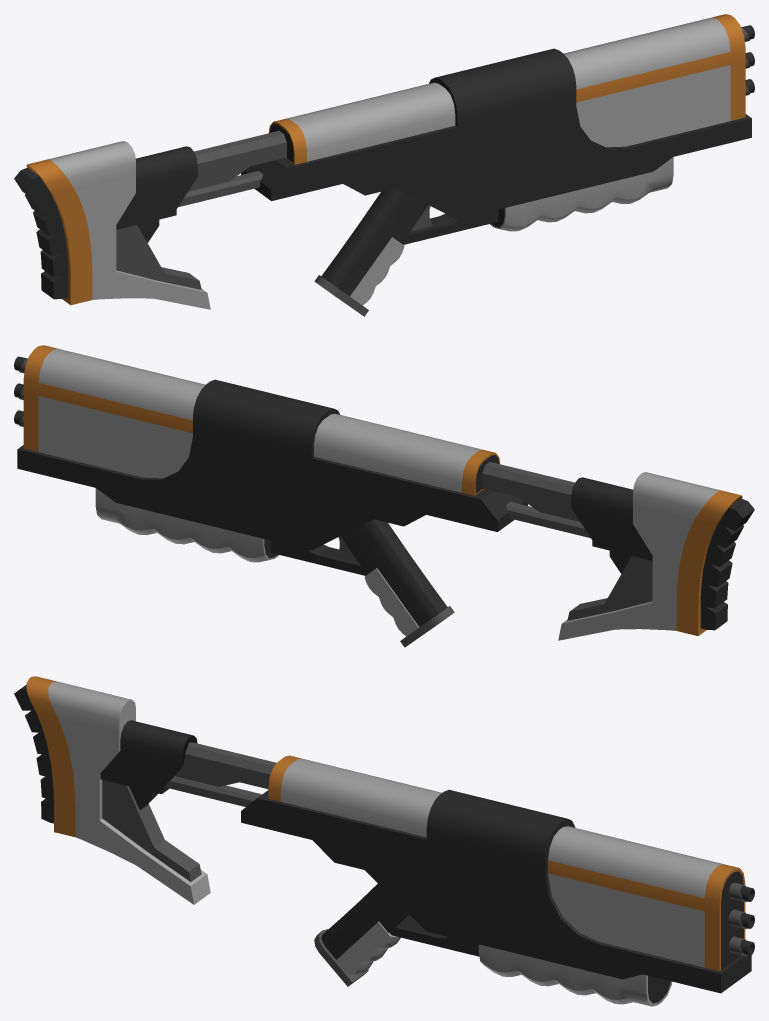
File: Scifi Assault Rifle.glb
3 views of the same model, one above another, from view 1: azimuth 30°, elevation 25°; view 2: azimuth 150°, elevation 25°; view 3: azimuth 330°, elevation 25° (orthographic).
Visible parts, largest first — view 1: AR_1; view 2: AR_1; view 3: AR_1.
Boxes of the visible parts, <box> form: AR_1: <box>14,14,754,316</box>; AR_1: <box>14,345,754,647</box>; AR_1: <box>14,676,754,1006</box>.
Size of the model in its own units: 1.89 by 0.5528 by 0.1366.
